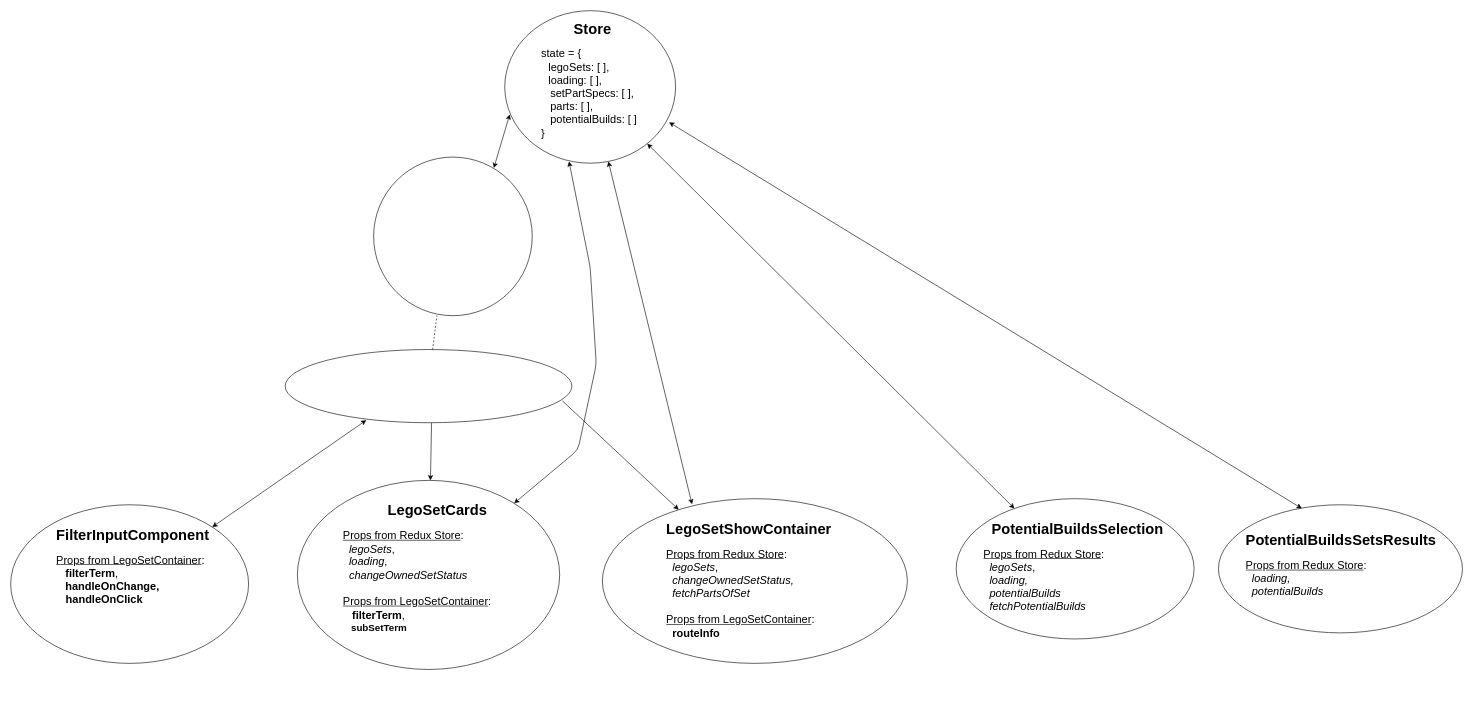
Image size: 1473x705. Some labels were removed from this diagram. Each missing label, with the centre of its shape:
App componentDidMount( ){ this.props. fetchLegoSets ( ) }: the point at 452,236
LegoSetsContainer Component S tate = { filterTerm = ' ' }: the point at 428,386
